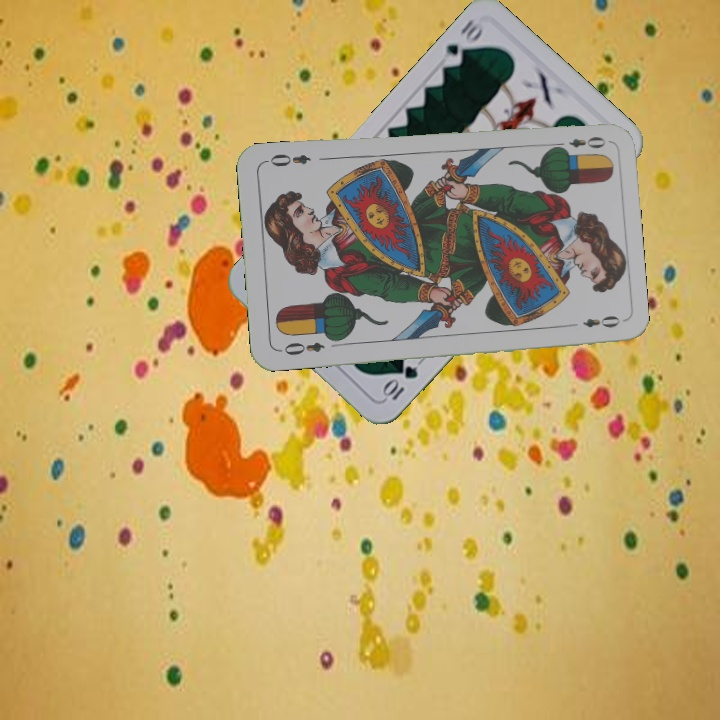EO: (550, 132, 608, 154), (275, 338, 327, 358)
G10: (441, 15, 488, 70), (379, 361, 421, 403)
